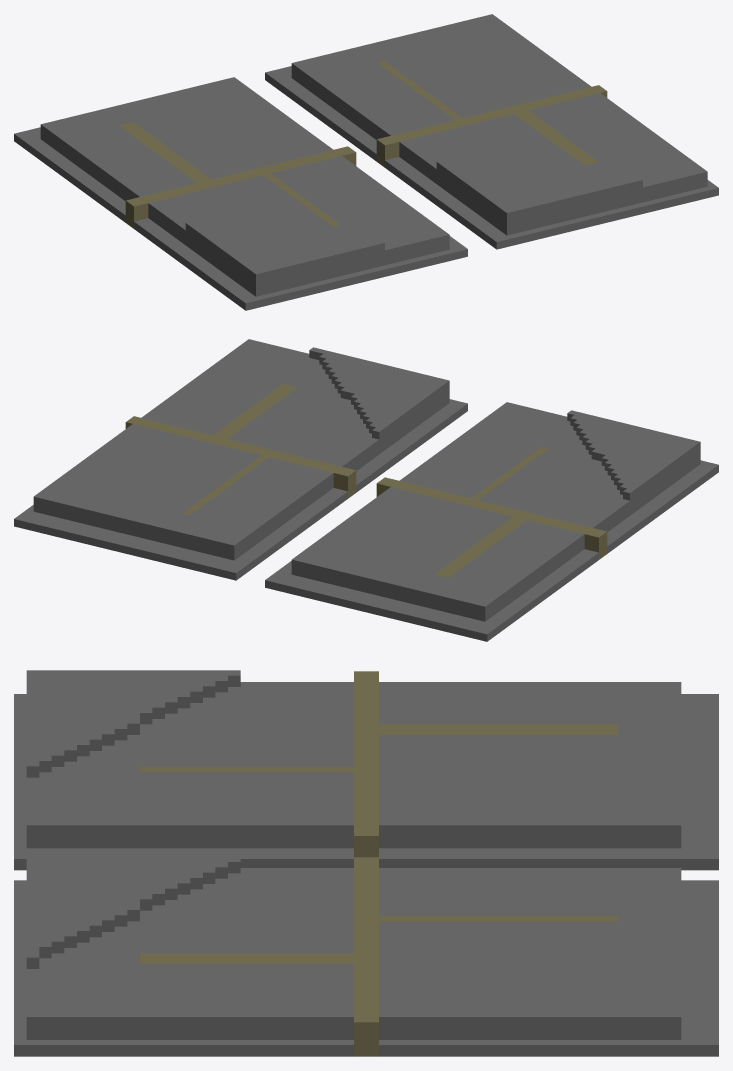
Rendered from footrags_wool.glb.
3 views of the same model, one above another, from view 1: azimuth 30°, elevation 25°; view 2: azimuth 150°, elevation 25°; view 3: azimuth 270°, elevation 25° (orthographic). The views are drawn at different scales.
Visible parts, largest first — view 1: footrags_wool:compound; view 2: footrags_wool:compound; view 3: footrags_wool:compound.
Boxes of the visible parts, left/top/right/bottom form: footrags_wool:compound: left=14, top=14, right=718, bottom=310; footrags_wool:compound: left=14, top=339, right=718, bottom=641; footrags_wool:compound: left=14, top=670, right=718, bottom=1056.
Size of the model in its own units: 0.264 by 0.016 by 0.224.
